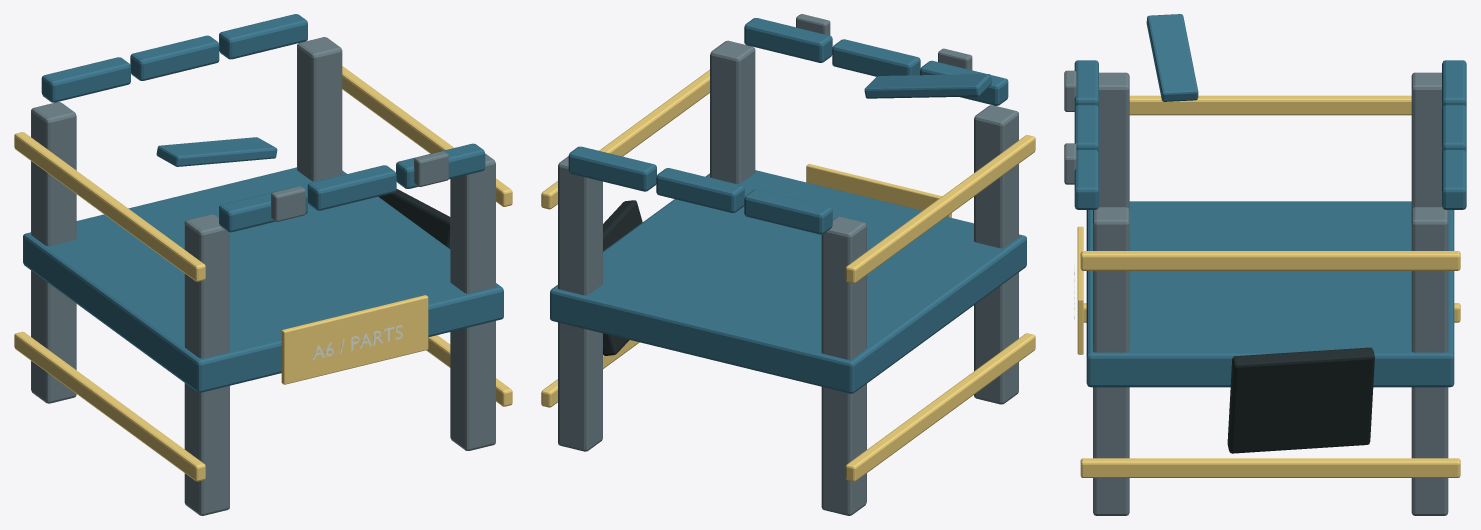
File: cargo_crate_d1.glb
3 renders of one model, left to right at view 1: azimuth 30°, elevation 25°; view 2: azimuth 150°, elevation 25°; view 3: azimuth 270°, elevation 25°, orthographic. The views are drawn at different scales.
Visible parts, largest first — view 1: Crate shell.001, Corner post.006, Corner post.004, Corner post.005, Identification placard.001, Corner post.007, Vertical tie band.004, Vertical tie band.005, Vertical tie band.007, Lid slat.009, Lid slat.010, Lid slat.007 (+8 smaller); view 2: Crate shell.001, Corner post.005, Corner post.007, Corner post.004, Corner post.006, Vertical tie band.005, Vertical tie band.004, Peeled lid corner, Vertical tie band.007, Lid slat.009, Lid slat.011, Lid slat.008 (+6 smaller); view 3: Crate shell.001, Runover dent, Corner post.007, Corner post.006, Vertical tie band.007, Vertical tie band.006, Vertical tie band.005, Corner post.005, Corner post.004, Peeled lid corner, Lid slat.011, Lid slat.008 (+7 smaller).
Part boxes in pixels (x1,y1,x2,y2): Crate shell.001: (23,167,503,392); Corner post.006: (450,153,495,450); Corner post.004: (184,214,229,515); Corner post.005: (31,102,76,403); Identification placard.001: (281,295,428,384); Corner post.007: (297,37,342,181); Vertical tie band.004: (14,331,205,481); Vertical tie band.005: (14,132,205,281); Vertical tie band.007: (342,66,512,206); Lid slat.009: (41,57,130,102); Lid slat.010: (130,35,219,80); Lid slat.007: (307,165,396,210); Crate shell.001: (550,170,1026,393); Corner post.005: (821,216,866,515); Corner post.007: (558,156,602,451); Corner post.004: (974,105,1018,404); Corner post.006: (710,40,755,183); Vertical tie band.005: (845,135,1035,283); Vertical tie band.004: (845,333,1035,481); Peeled lid corner: (864,74,992,98); Vertical tie band.007: (541,69,709,209); Lid slat.009: (744,189,832,234); Lid slat.011: (568,146,656,191); Lid slat.008: (744,18,832,62); Crate shell.001: (1086,201,1454,387); Runover dent: (1227,347,1374,453); Corner post.007: (1411,207,1448,515); Corner post.006: (1093,207,1129,515); Vertical tie band.007: (1080,251,1460,270); Vertical tie band.006: (1080,458,1460,477); Vertical tie band.005: (1129,95,1411,115); Corner post.005: (1411,72,1442,209); Corner post.004: (1099,72,1129,209); Peeled lid corner: (1146,14,1198,101); Lid slat.011: (1442,150,1466,209); Lid slat.008: (1074,150,1098,209).
Bounding box in the file's own units: 2 × 1.91 × 1.97.
